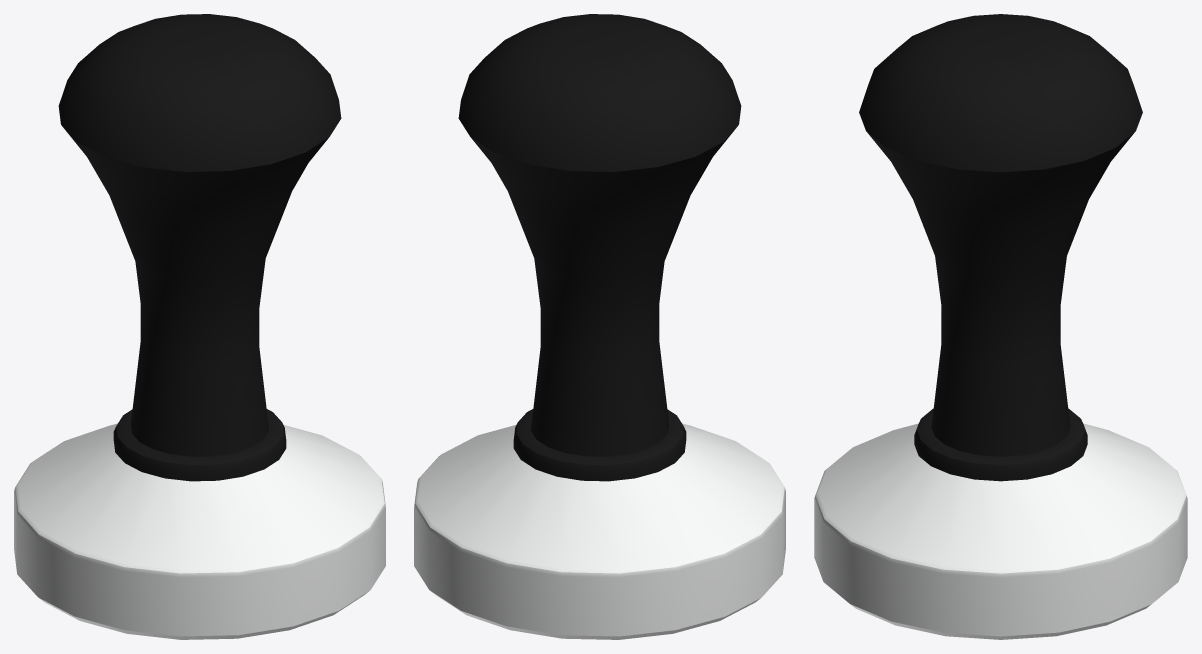
3 views of the same model, side by side, from view 1: azimuth 30°, elevation 25°; view 2: azimuth 150°, elevation 25°; view 3: azimuth 270°, elevation 25° (orthographic).
Visible parts, largest first — view 1: coffee_tamper; view 2: coffee_tamper; view 3: coffee_tamper.
Part boxes in pixels (x1,y1,x2,y2): coffee_tamper: (14,14,385,639); coffee_tamper: (414,14,785,639); coffee_tamper: (814,14,1187,639).
Bounding box in the file's own units: 6.65 × 10.26 × 6.65.
1 material, 1 textured.
